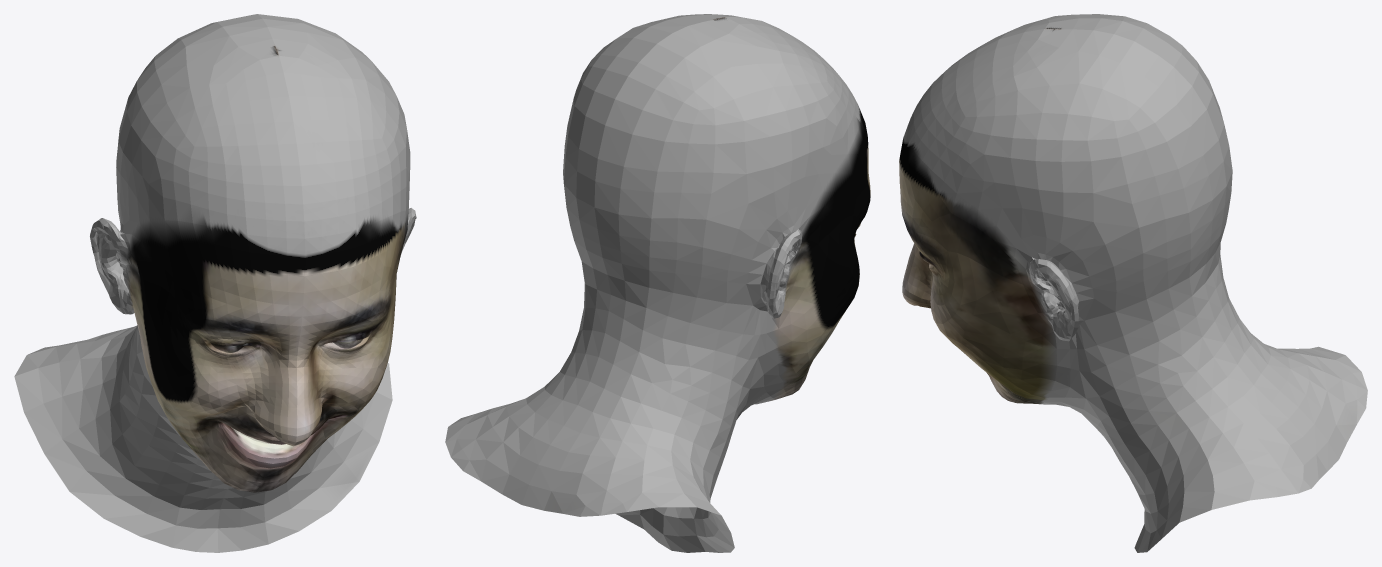
File: ezgif-frame-011.obj
3 views of the same model, side by side, from view 1: azimuth 30°, elevation 25°; view 2: azimuth 150°, elevation 25°; view 3: azimuth 270°, elevation 25° (orthographic). The views are drawn at different scales.
Bounding box in the file's own units: 0.2035 × 0.3236 × 0.272.
Materials: 1 (1 with a texture image).
